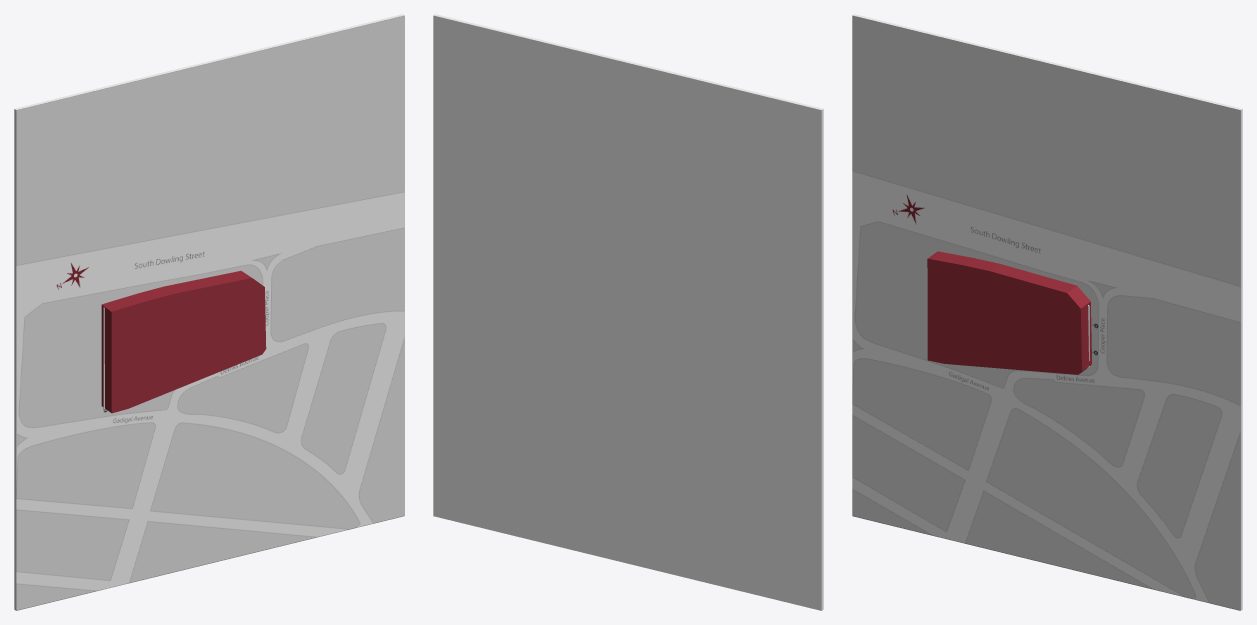
3 renders of one model, left to right at view 1: azimuth 30°, elevation 25°; view 2: azimuth 150°, elevation 25°; view 3: azimuth 330°, elevation 25°, orthographic.
Parts seen in each view (by area): view 1: SITE_1_Site, BUILDING_2_Building, ExtrudeMesh; view 2: ExtrudeMesh; view 3: SITE_1_Site, BUILDING_2_Building, ExtrudeMesh.
Part boxes in pixels (x1=…): SITE_1_Site: x1=16, y1=15, x2=404, y2=610; BUILDING_2_Building: x1=101, y1=271, x2=266, y2=413; ExtrudeMesh: x1=14, y1=14, x2=404, y2=610; ExtrudeMesh: x1=433, y1=14, x2=823, y2=610; SITE_1_Site: x1=852, y1=15, x2=1240, y2=610; BUILDING_2_Building: x1=927, y1=251, x2=1091, y2=374; ExtrudeMesh: x1=852, y1=14, x2=1242, y2=610.
Size of the model in its own units: 2230 by 2747 by 120.
